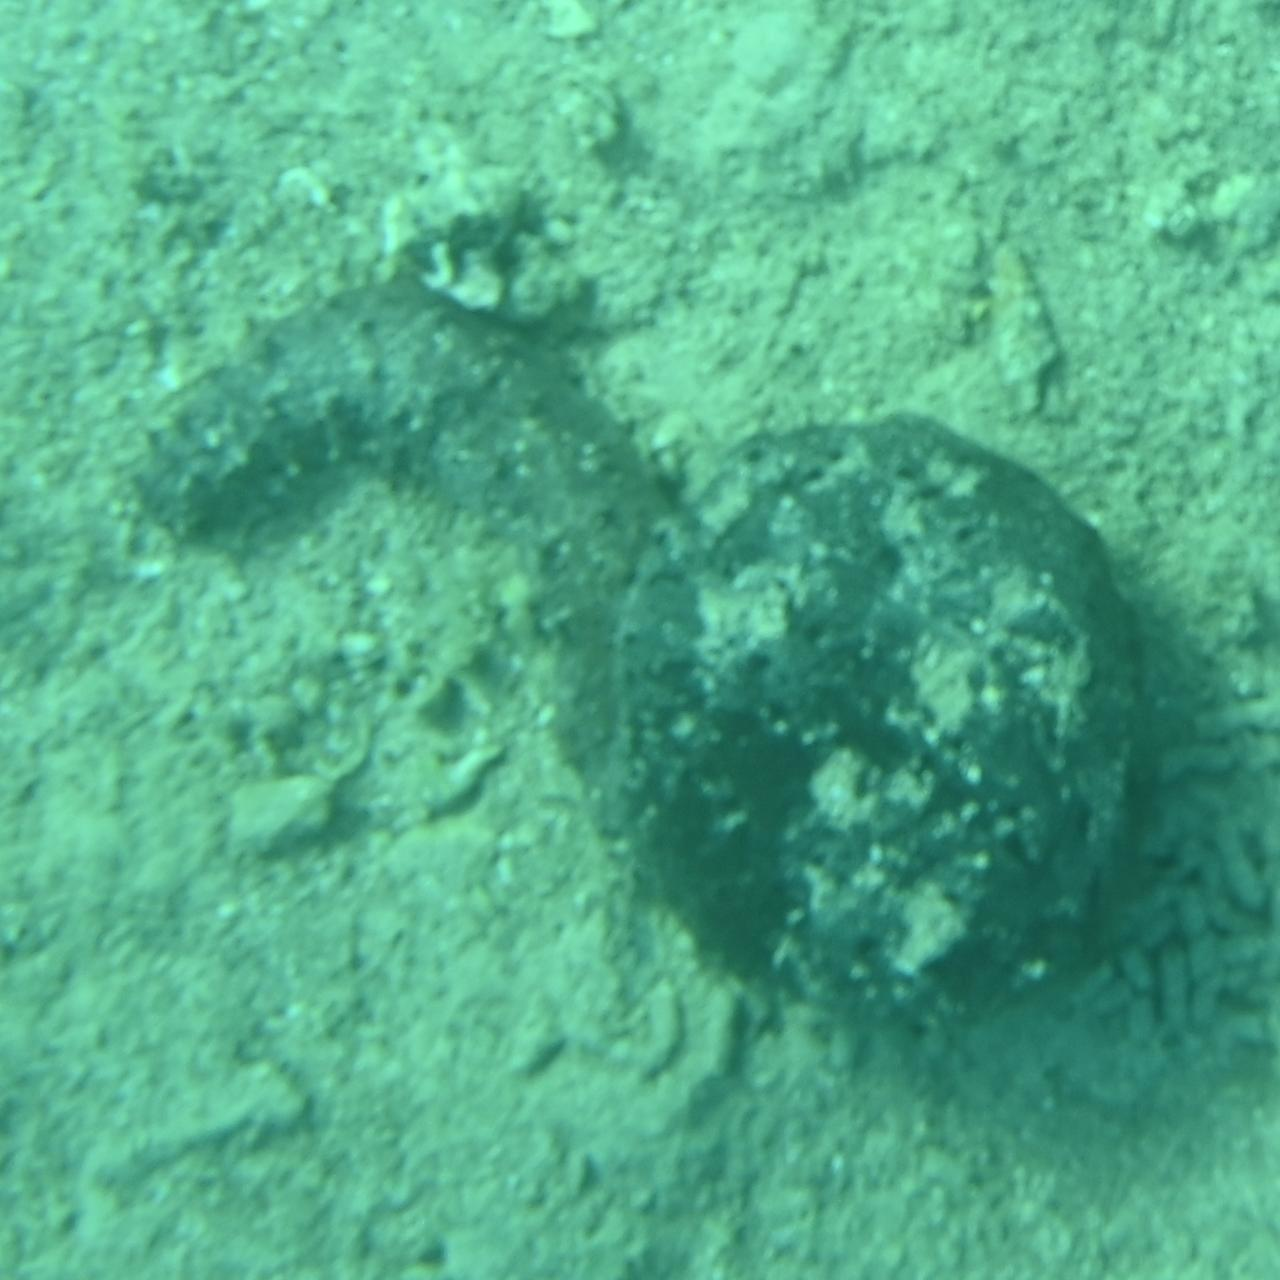Holothuria tubulosa: (109, 282, 675, 825)
Keratosa -cfr Sarcotragus-: (631, 409, 1145, 1043)
